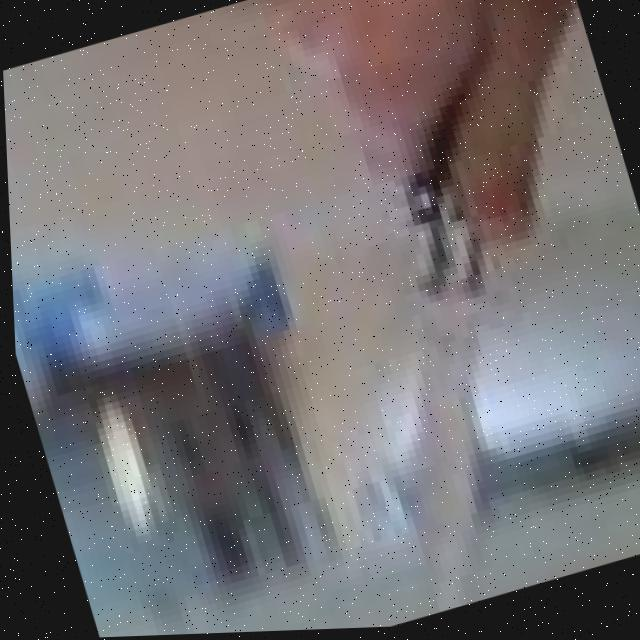knife: (311, 201, 557, 622)
